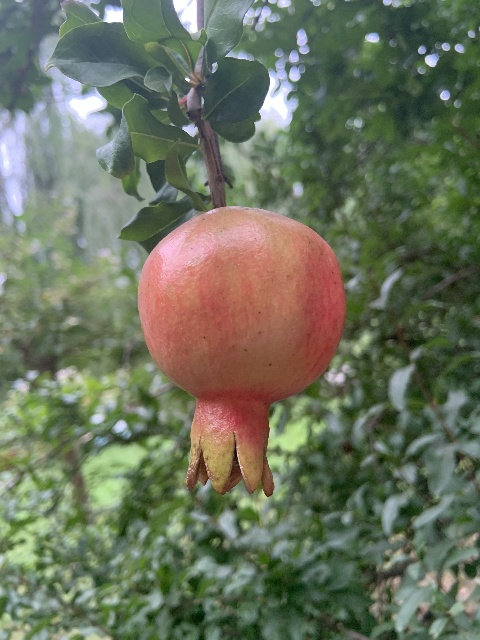ripe: (137, 205, 347, 499)
